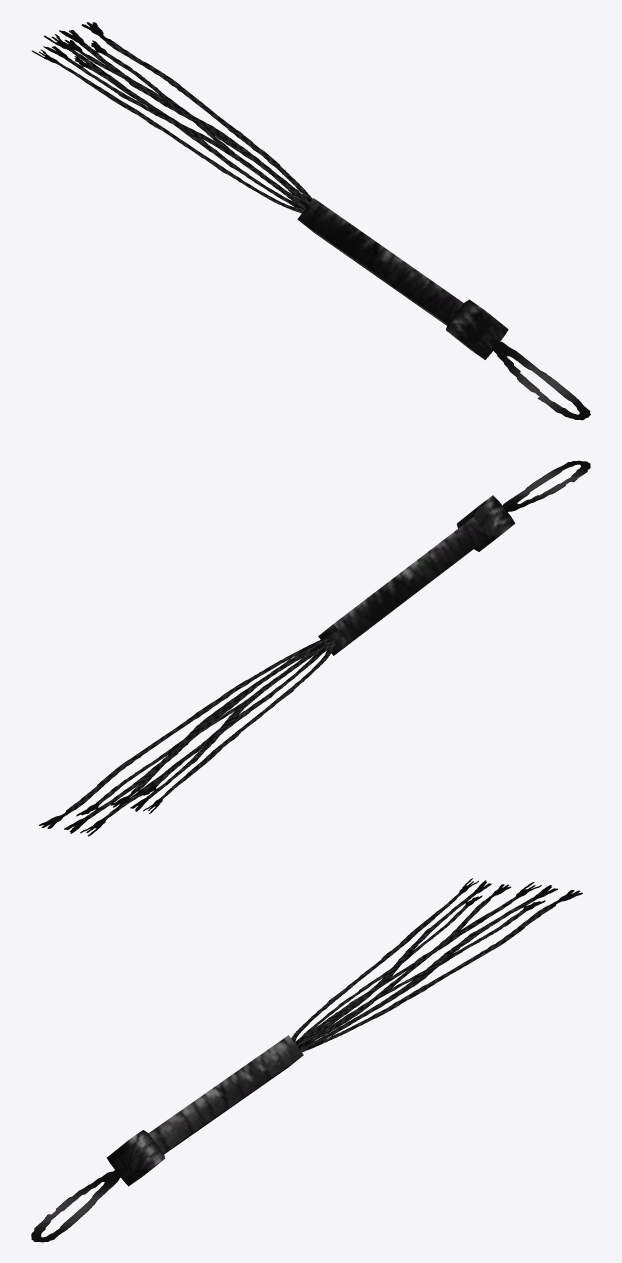
Rendered from catonine.fbx.
3 renders of one model, top to bottom at view 1: azimuth 30°, elevation 25°; view 2: azimuth 150°, elevation 25°; view 3: azimuth 330°, elevation 25°, orthographic. The views are drawn at different scales.
Parts seen in each view (by area): view 1: mesh_1, mesh_2, mesh_3, mesh_0; view 2: mesh_1, mesh_2, mesh_3, mesh_0; view 3: mesh_1, mesh_3, mesh_2, mesh_0.
Boxes of the visible parts, box(x1,y1,x2,y2) form: mesh_1: box(297, 198, 508, 359); mesh_2: box(32, 39, 308, 213); mesh_3: box(44, 22, 312, 204); mesh_0: box(489, 339, 590, 420); mesh_1: box(318, 495, 515, 655); mesh_2: box(110, 640, 336, 813); mesh_3: box(39, 638, 329, 836); mesh_0: box(502, 460, 590, 511); mesh_1: box(107, 1035, 303, 1186); mesh_3: box(299, 882, 582, 1052); mesh_2: box(291, 878, 510, 1048); mesh_0: box(31, 1167, 126, 1242).
Size of the model in its own units: 22.03 by 8.37 by 164.
Materials: 1 (1 with a texture image).
